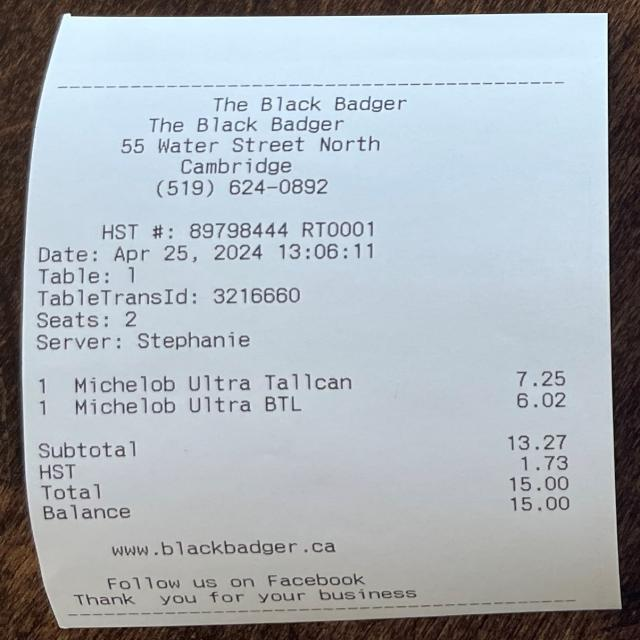item: (58, 388, 580, 418), (59, 365, 578, 395)
store_name: (202, 90, 422, 118)
total_amount: (32, 471, 580, 503)
transaction_date: (104, 238, 278, 268)
